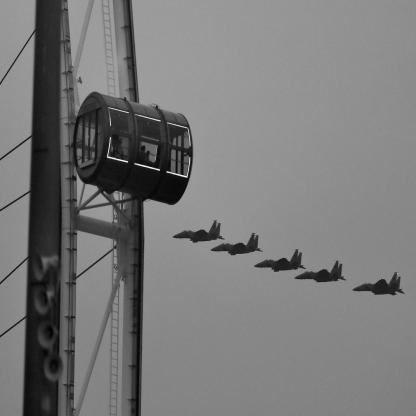F15: (353, 273, 406, 297), (173, 221, 226, 244), (211, 234, 264, 257), (295, 261, 348, 284), (255, 250, 307, 273)
